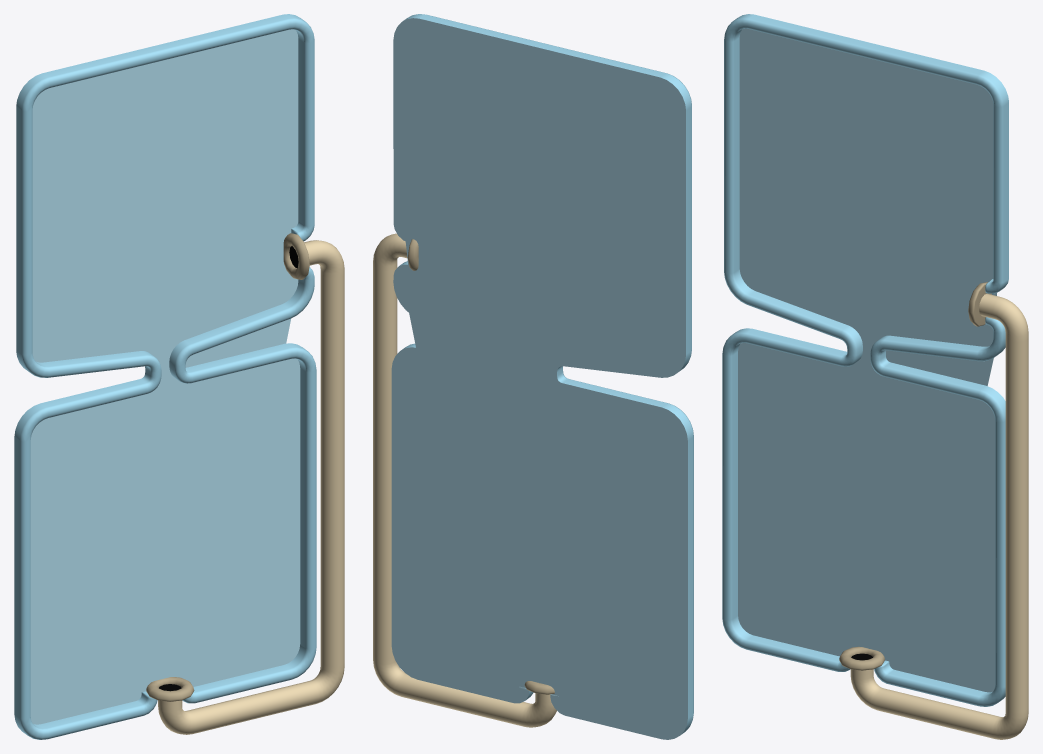
File: sceneGame (2).fbx
3 renders of one model, left to right at view 1: azimuth 30°, elevation 25°; view 2: azimuth 150°, elevation 25°; view 3: azimuth 330°, elevation 25°, orthographic. The views are drawn at different scales.
Visible parts, largest first — view 1: mainPlatform, pipe; view 2: mainPlatform, pipe; view 3: mainPlatform, pipe.
Boxes of the visible parts, box(x1,y1,x2,y2) form: mainPlatform: box(14, 14, 316, 739); pipe: box(146, 233, 344, 734); mainPlatform: box(391, 14, 693, 739); pipe: box(373, 233, 556, 727); mainPlatform: box(722, 14, 1008, 706); pipe: box(839, 282, 1028, 739).
Bounding box in the file's own units: 6.16 × 12.62 × 0.7975.
